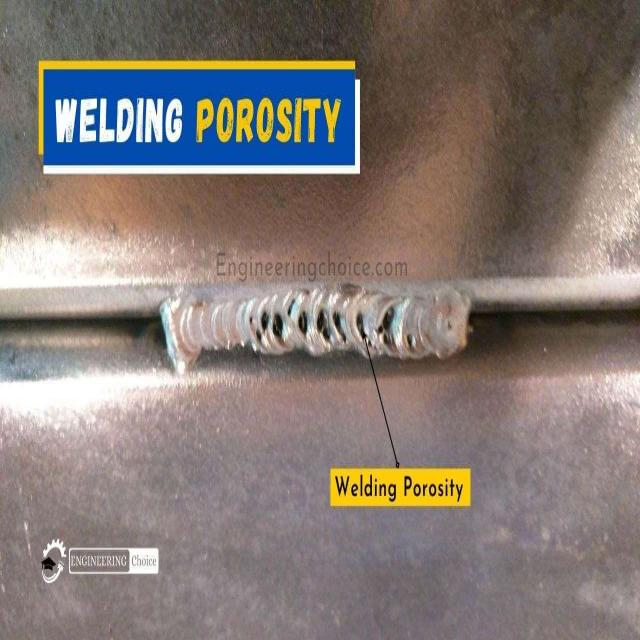Dry: (150, 252, 472, 386)
